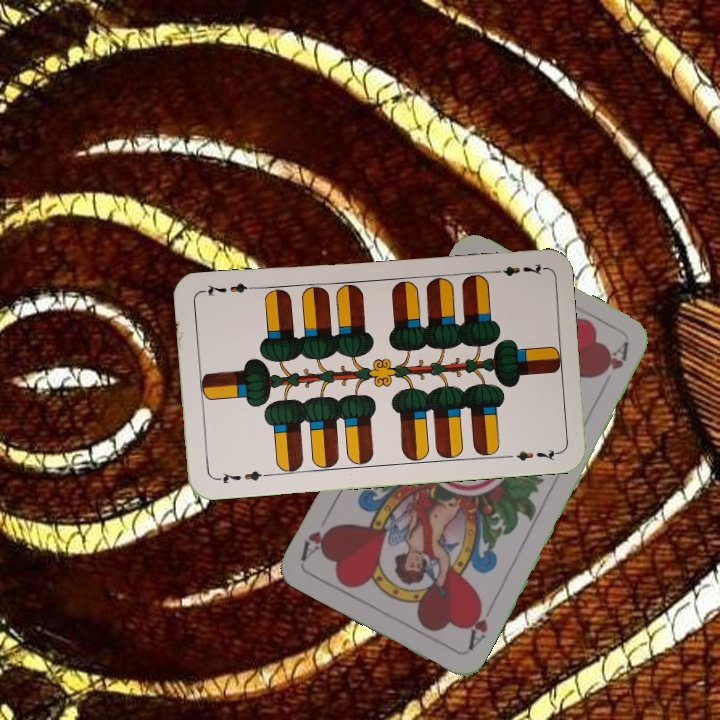E7: (212, 466, 271, 487), (487, 259, 546, 279)
HA: (463, 597, 491, 653)
